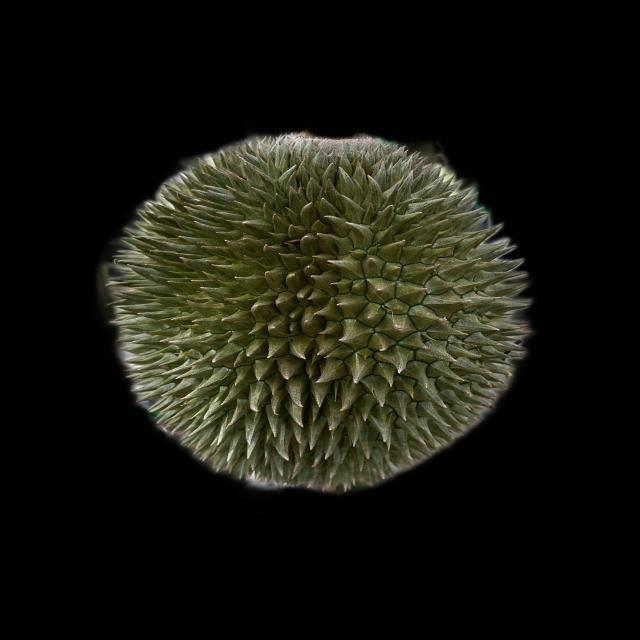immature: (104, 134, 532, 495)
